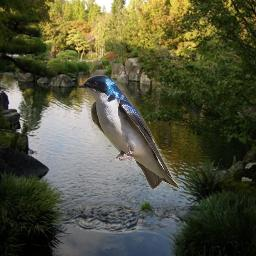Swallow: (77, 75, 181, 191)
